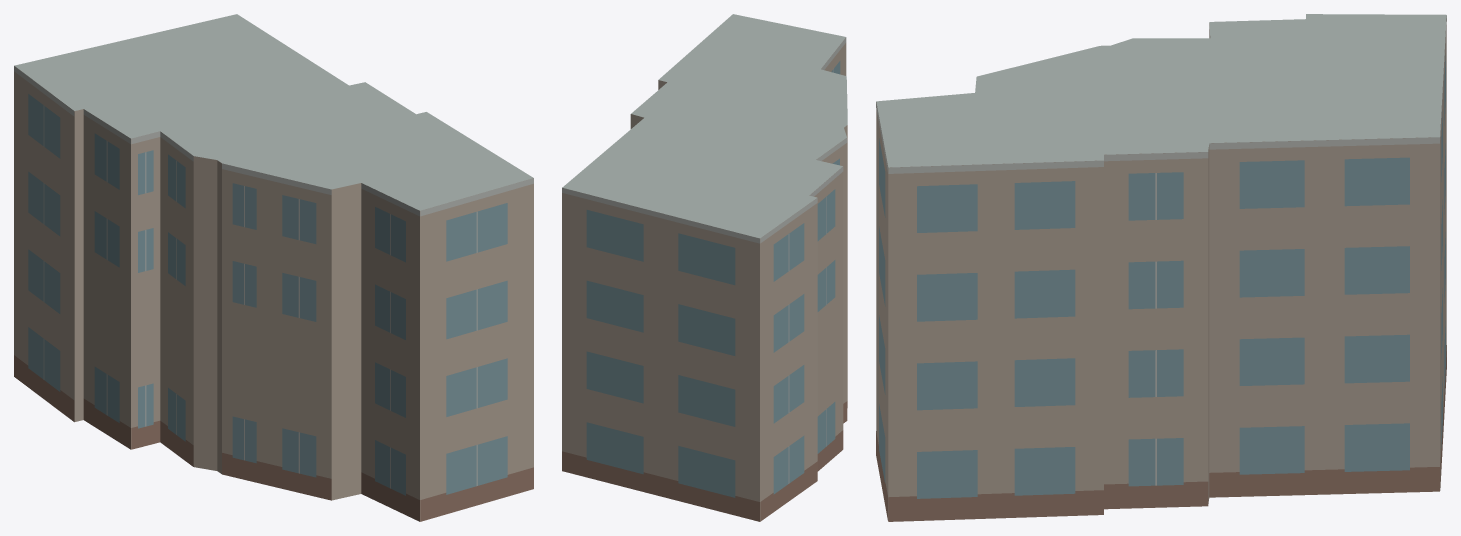
Rendered from survey-upis-32629858.glb.
The picture shows the model from 3 angles, left to right: view 1: azimuth 30°, elevation 25°; view 2: azimuth 150°, elevation 25°; view 3: azimuth 270°, elevation 25°; orthographic projection. The views are drawn at different scales.
Parts seen in each view (by area): view 1: survey-upis-32629858.tmp; view 2: survey-upis-32629858.tmp; view 3: survey-upis-32629858.tmp.
Part boxes in pixels (bbox=[...]): survey-upis-32629858.tmp: bbox=[14, 14, 533, 521]; survey-upis-32629858.tmp: bbox=[562, 14, 847, 521]; survey-upis-32629858.tmp: bbox=[876, 14, 1446, 521].
Bounding box in the file's own units: 12.4 × 13.34 × 19.47.
